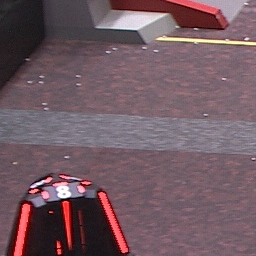Red: (41, 182, 85, 201)
